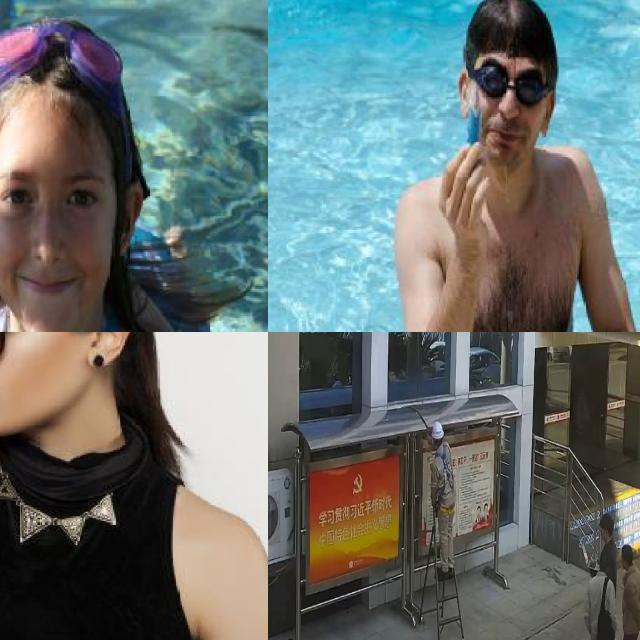Harness: (435, 446, 456, 508)
No_Ear-Protection: (82, 332, 136, 379)
No_Glasses: (0, 158, 117, 235)
face_nomask: (0, 164, 109, 302), (0, 332, 70, 440), (475, 60, 546, 154)
glasses: (0, 18, 134, 172), (470, 56, 552, 108), (0, 332, 98, 363)
hand_noglove: (436, 139, 496, 239)
head_nohelmet: (456, 0, 564, 73)
person: (391, 0, 640, 332), (0, 332, 268, 640), (0, 29, 221, 332)
